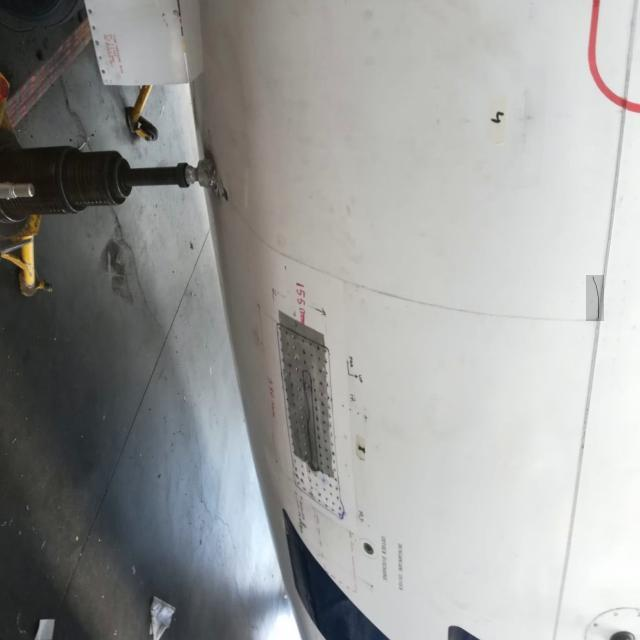crack: (587, 276, 605, 322)
